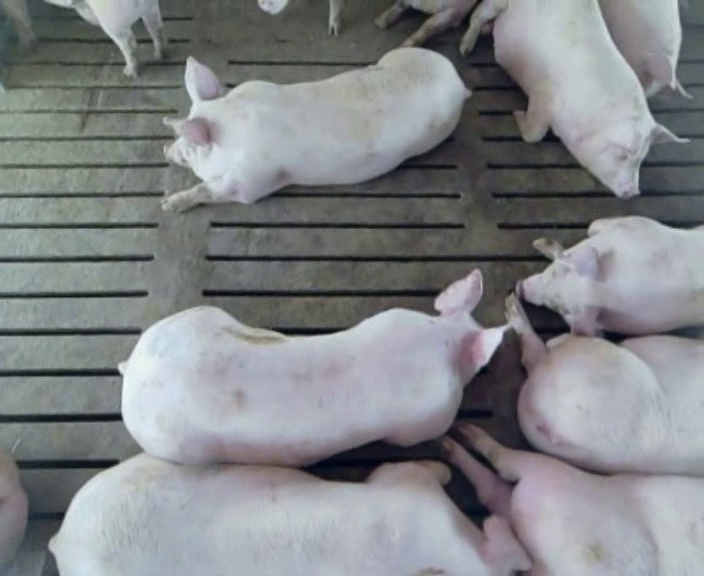pig: (121, 269, 505, 465), (49, 453, 532, 575), (162, 48, 469, 211), (460, 3, 681, 197), (444, 424, 703, 575), (506, 294, 703, 475), (518, 216, 703, 334), (600, 2, 691, 97)
